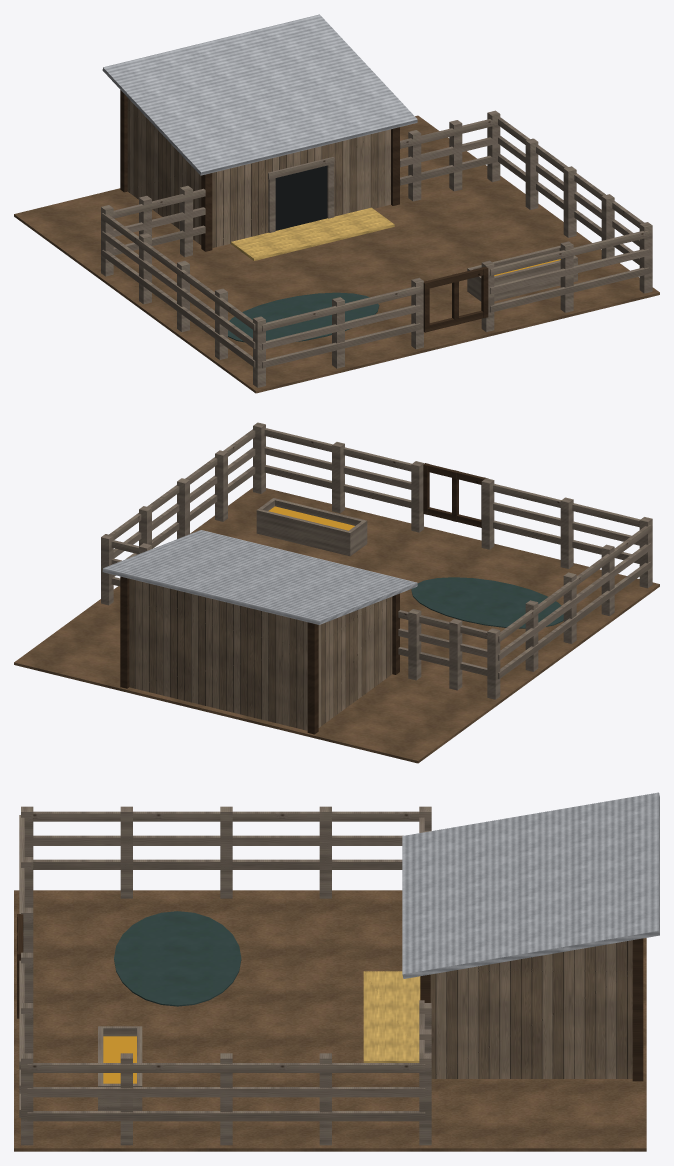
File: pig-pen.glb
The picture shows the model from 3 angles, top to bottom: view 1: azimuth 30°, elevation 25°; view 2: azimuth 150°, elevation 25°; view 3: azimuth 270°, elevation 25°; orthographic projection. The views are drawn at different scales.
Parts seen in each view (by area): view 1: PigPen; view 2: PigPen; view 3: PigPen.
Part boxes in pixels (x1,y1,x2,y2): PigPen: (14,14,659,393); PigPen: (14,422,659,763); PigPen: (14,792,659,1151).
Bounding box in the file's own units: 6.9 × 2.01 × 7.3.
Materials: 9 (7 with a texture image).
